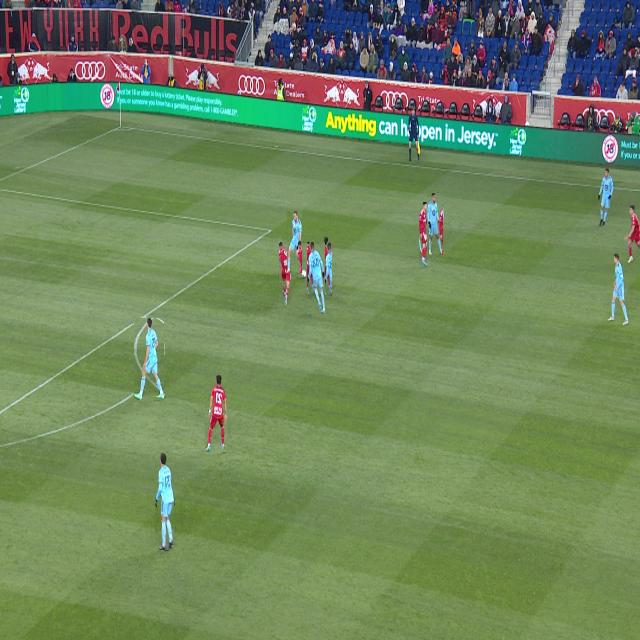football: (302, 269, 306, 278)
player: (135, 319, 164, 400), (156, 453, 174, 550), (205, 376, 227, 452), (608, 254, 628, 325), (308, 242, 325, 314), (428, 193, 443, 255), (287, 212, 302, 273), (598, 168, 613, 227), (625, 205, 640, 263), (318, 237, 332, 296), (279, 242, 291, 305), (420, 203, 431, 266)
